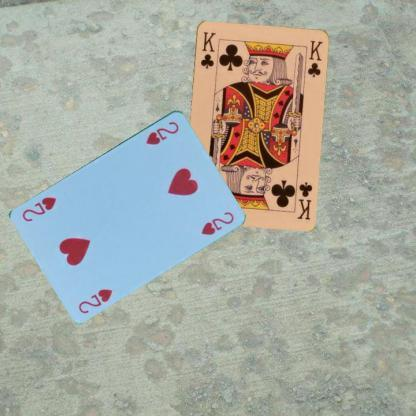2h: (76, 285, 114, 315), (144, 118, 180, 146)
Kc: (294, 179, 313, 221), (198, 29, 217, 70)
